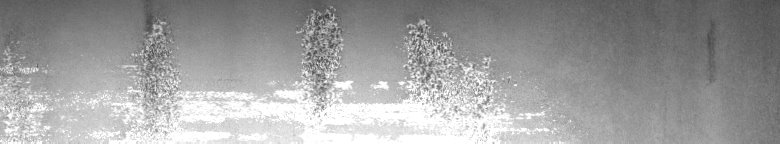hc: (297, 7, 343, 88)
